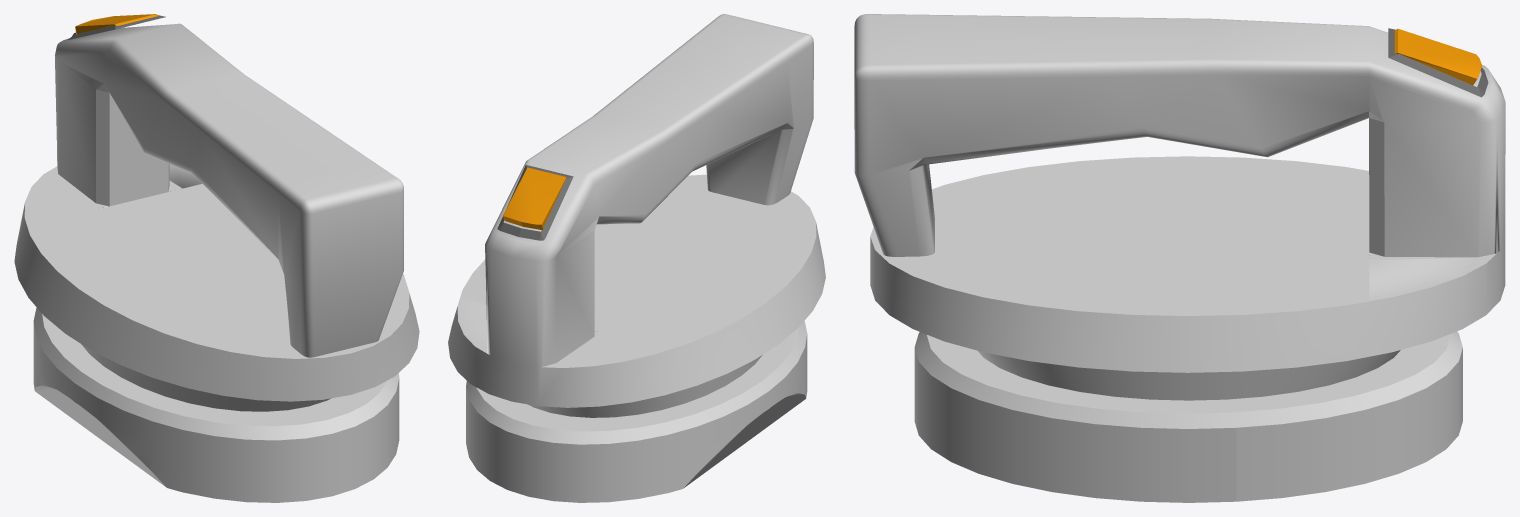
The model's file is defib_handle_right.fbx.
The picture shows the model from 3 angles, left to right: view 1: azimuth 30°, elevation 25°; view 2: azimuth 150°, elevation 25°; view 3: azimuth 270°, elevation 25°; orthographic projection. The views are drawn at different scales.
Visible parts, largest first — view 1: Cylinder22, l; view 2: Cylinder22, l, Group05; view 3: Cylinder22, l, Group05.
Part boxes in pixels (x1,y1,x2,y2): Cylinder22: (14, 23, 419, 502); l: (75, 14, 157, 34); Cylinder22: (448, 14, 825, 502); l: (503, 167, 566, 229); Group05: (497, 165, 573, 240); Cylinder22: (854, 14, 1505, 502); l: (1394, 28, 1482, 85); Group05: (1388, 28, 1488, 97).
Size of the model in its own units: 8.92 by 9.15 by 14.02.
